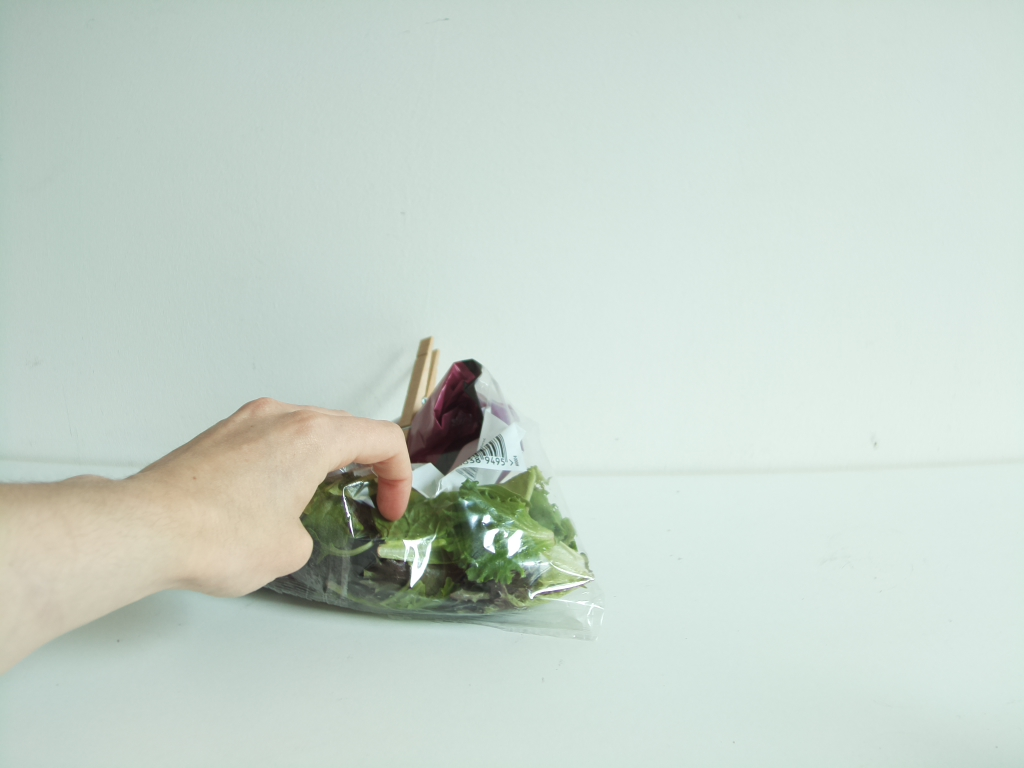salad: (268, 356, 603, 624)
